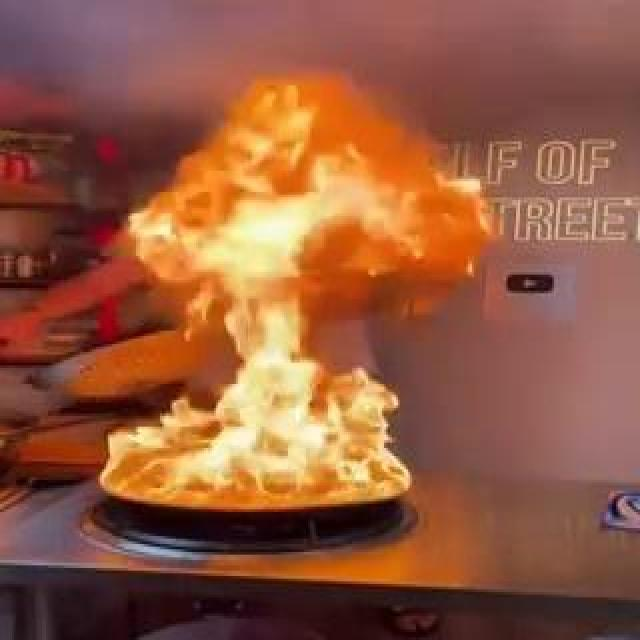Fire: (82, 121, 440, 514)
